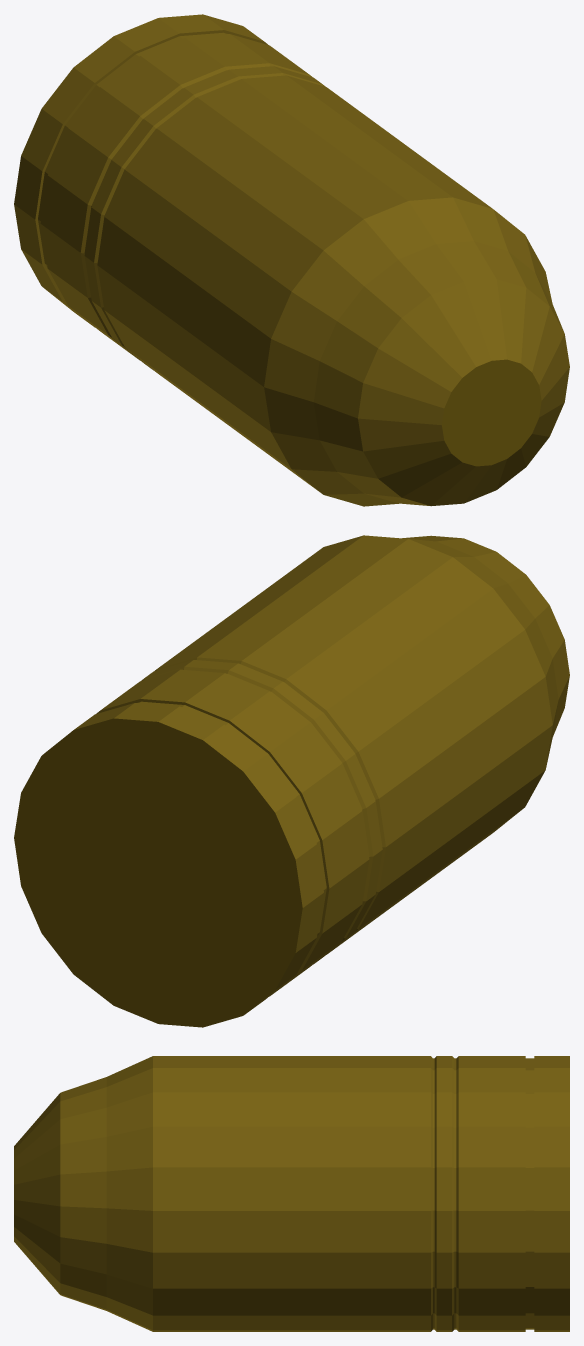
The model's file is Laser.fbx.
The picture shows the model from 3 angles, top to bottom: view 1: azimuth 30°, elevation 25°; view 2: azimuth 150°, elevation 25°; view 3: azimuth 270°, elevation 25°; orthographic projection. The views are drawn at different scales.
Parts seen in each view (by area): view 1: pCylinder4; view 2: pCylinder4; view 3: pCylinder4.
Boxes of the visible parts, x1=… form: pCylinder4: x1=14, y1=14, x2=569, y2=506; pCylinder4: x1=14, y1=535, x2=569, y2=1027; pCylinder4: x1=14, y1=1056, x2=569, y2=1331.
Size of the model in its own units: 2 by 2 by 4.
1 material, 1 textured.
